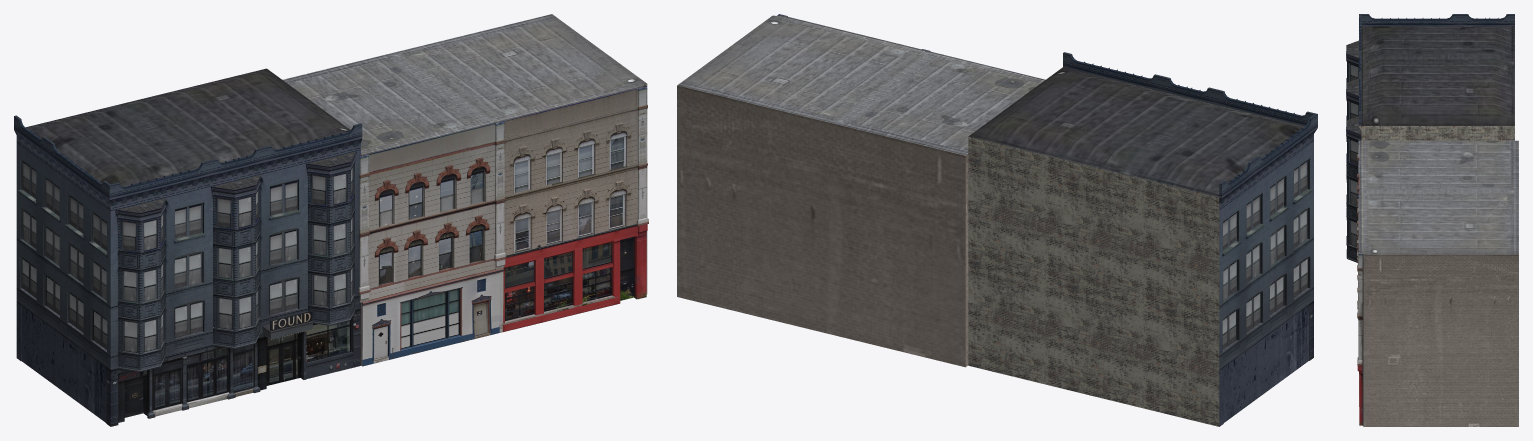
Rendered from Builds.fbx.
The picture shows the model from 3 angles, left to right: view 1: azimuth 30°, elevation 25°; view 2: azimuth 150°, elevation 25°; view 3: azimuth 270°, elevation 25°; orthographic projection. The views are drawn at different scales.
Visible parts, largest first — view 1: Building black, Building; view 2: Building, Bricks, Building black; view 3: Building, Building black, Bricks.
Part boxes in pixels (x1,y1,x2,y2): Building black: [14, 68, 362, 426]; Building: [282, 14, 648, 366]; Building: [677, 14, 1045, 367]; Bricks: [968, 136, 1219, 426]; Building black: [968, 52, 1317, 426]; Building: [1357, 139, 1518, 426]; Building black: [1346, 14, 1514, 262]; Bricks: [1359, 126, 1514, 140].
Bounding box in the file's own units: 16640 × 7138 × 5648.
